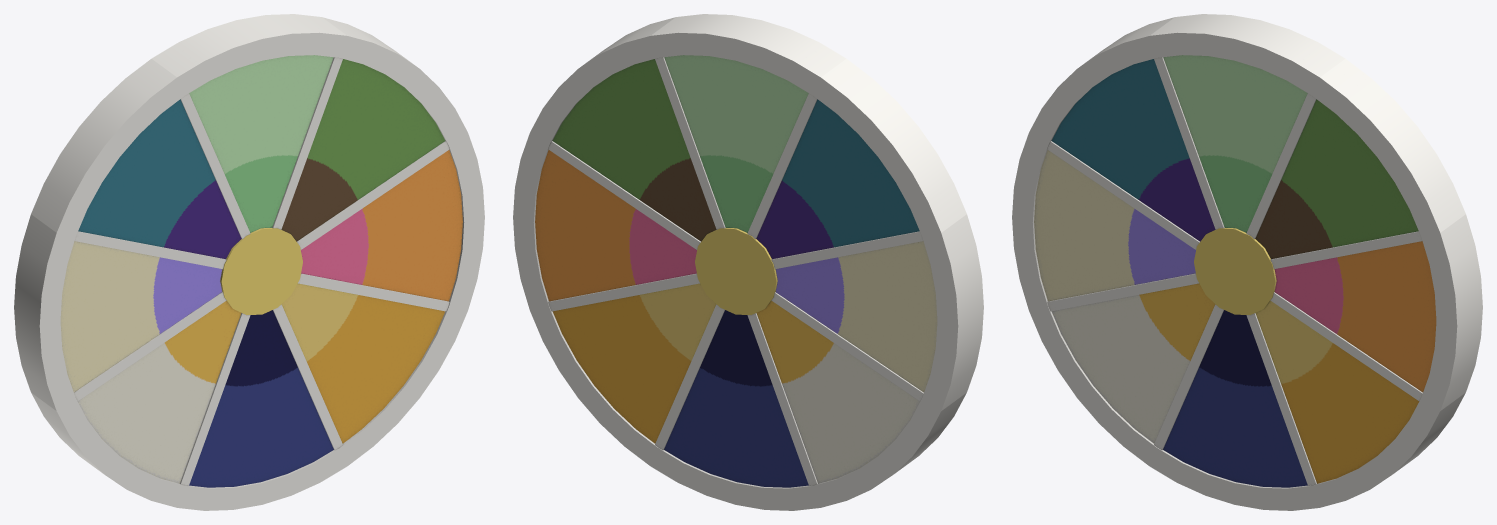
The model's file is wheel_disc.fbx.
3 renders of one model, left to right at view 1: azimuth 30°, elevation 25°; view 2: azimuth 150°, elevation 25°; view 3: azimuth 330°, elevation 25°, orthographic.
Parts seen in each view (by area): view 1: wheel_disc; view 2: wheel_disc; view 3: wheel_disc.
Part boxes in pixels (x1,y1,x2,y2): wheel_disc: [14, 14, 484, 510]; wheel_disc: [513, 14, 983, 510]; wheel_disc: [1012, 14, 1482, 510].
Size of the model in its own units: 600 by 600 by 60.
1 material, 1 textured.
